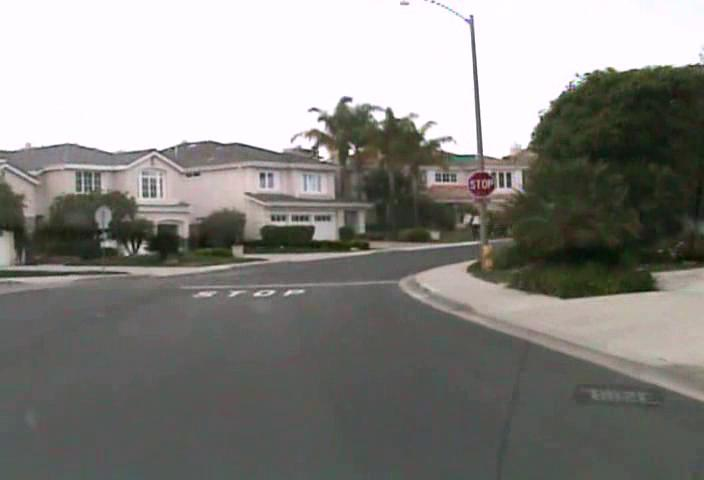stop: (466, 170, 496, 198)
